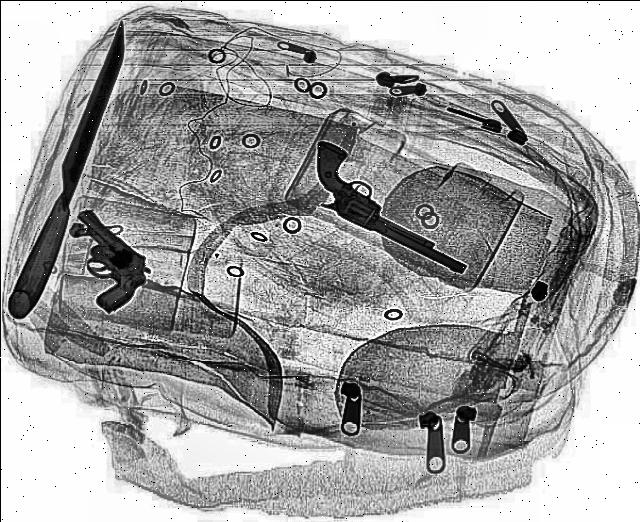Gun: (279, 138, 501, 274), (26, 208, 166, 314)
Knife: (1, 20, 143, 322)
